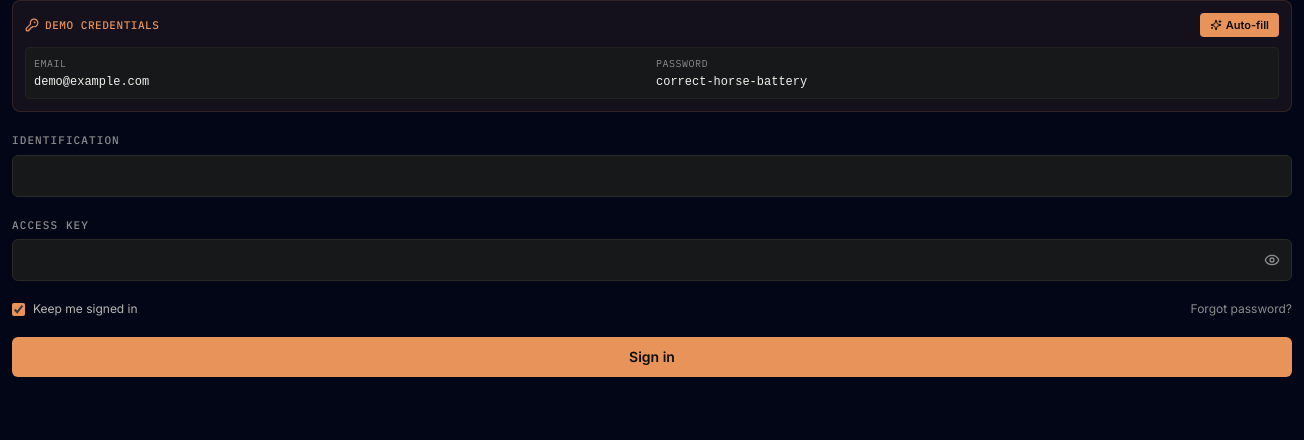
Test case: AuthForm Demo Credentials & Auto-fill Integration › clears existing validation errors upon auto-fill
The image size is (1304, 440).
Click the button "Sign in": (652, 357) [12,337,1292,377]
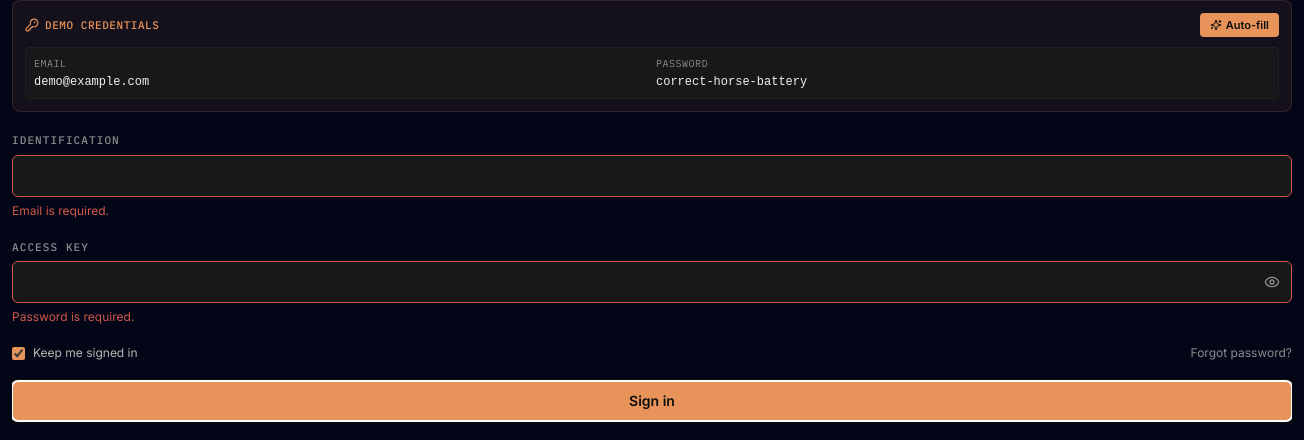
Result: the text "Email is required." is shown at [12,202,109,218]
Result: the text "Password is required." is shown at [12,309,134,324]
Click the button "Auto-fill": (1239, 25) [1200,13,1279,37]
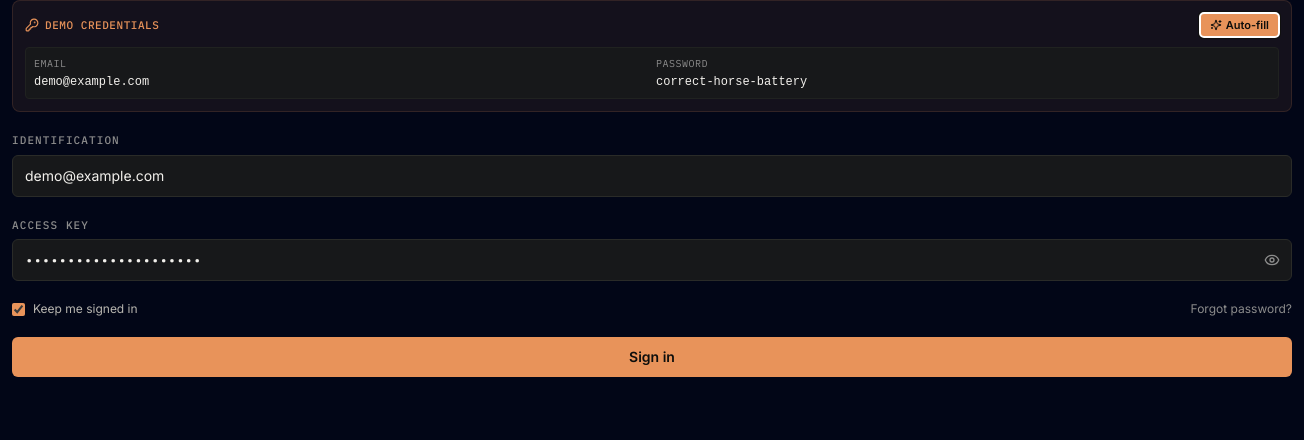
Result: the text "Email is required." is gone
Result: the text "Password is required." is gone
